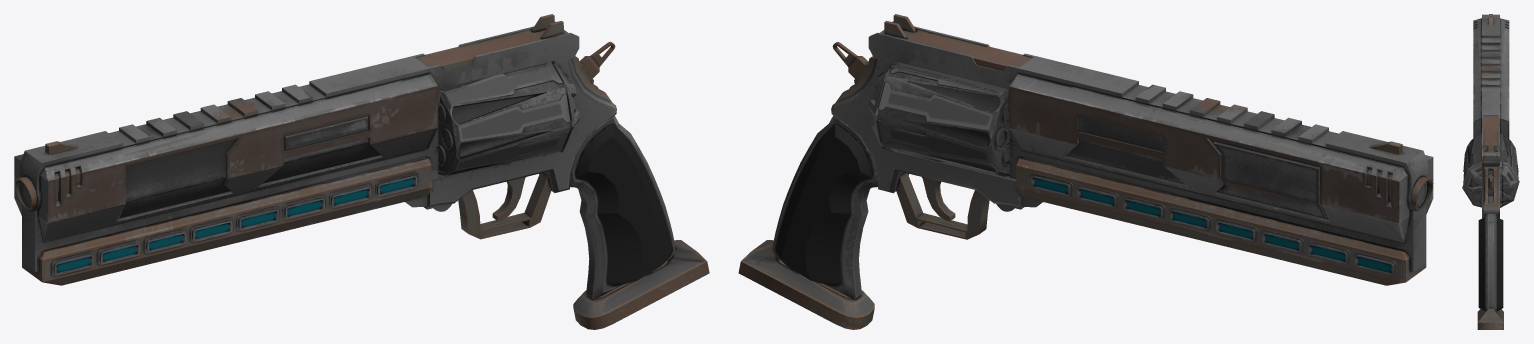
Rendered from MS_Weapon.fbx.
The picture shows the model from 3 angles, left to right: view 1: azimuth 30°, elevation 25°; view 2: azimuth 150°, elevation 25°; view 3: azimuth 270°, elevation 25°; orthographic projection. The views are drawn at different scales.
Visible parts, largest first — view 1: MS_Weapon; view 2: MS_Weapon; view 3: MS_Weapon.
Boxes of the visible parts, x1,y1,x2,y2 form: MS_Weapon: [14, 14, 709, 329]; MS_Weapon: [738, 14, 1433, 329]; MS_Weapon: [1462, 14, 1519, 329].
Size of the model in its own units: 51.3 by 22.68 by 7.12.
